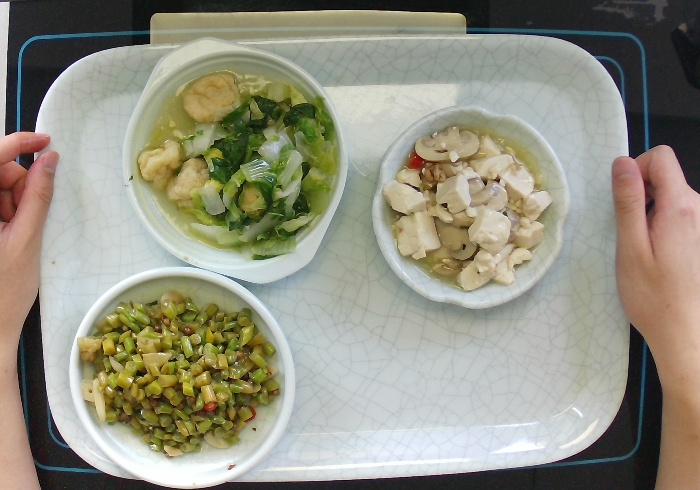JYsf-Ao_Yuan_Wan: (367, 101, 574, 314)
JYsf-Shuang_Er_Pan: (117, 34, 351, 288)
JYsf-Xiao_Yuan_Pan: (65, 262, 301, 490)
